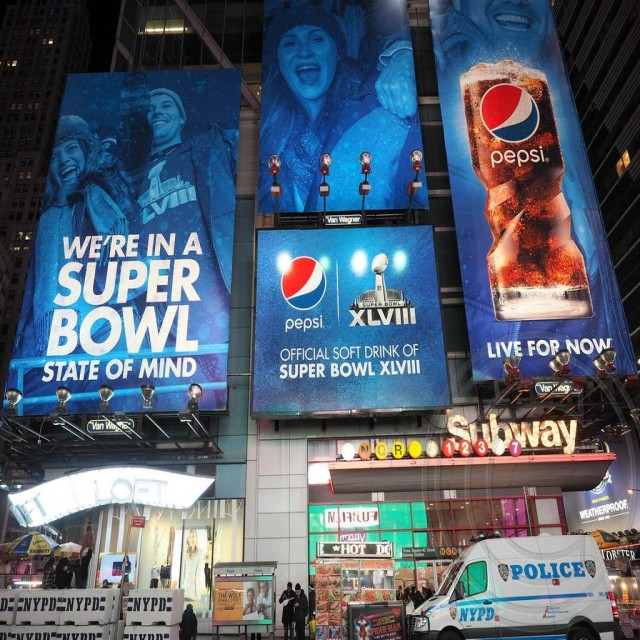pepsi: (481, 80, 545, 146), (281, 257, 327, 308)
